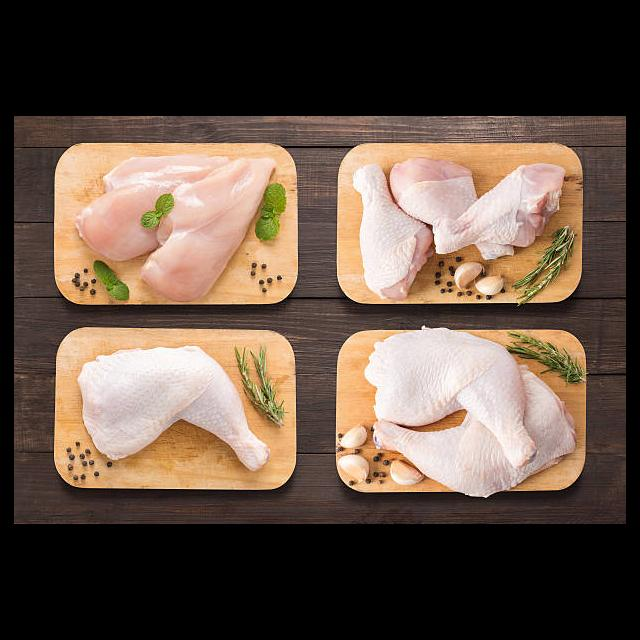chicken: (358, 330, 580, 496), (78, 155, 277, 297), (76, 345, 269, 473), (390, 157, 564, 253), (355, 162, 431, 294)
